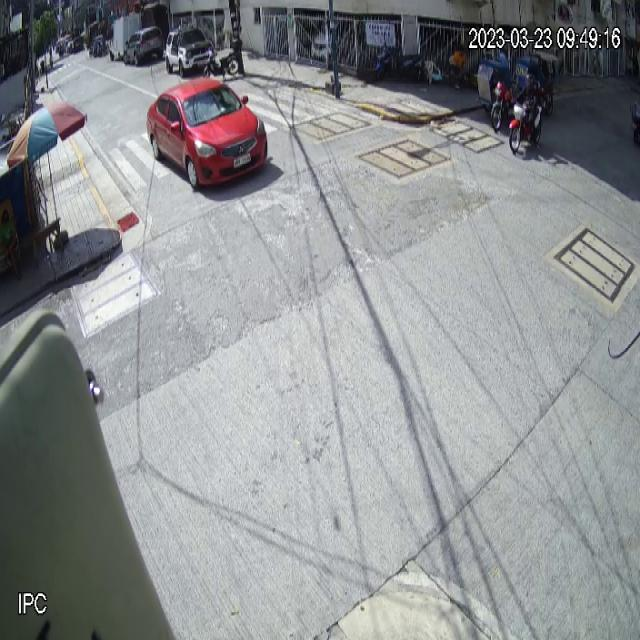Car: (147, 76, 268, 190), (166, 24, 215, 77)
Motorcycle: (509, 102, 544, 154)
Tricycle: (477, 56, 522, 130)
